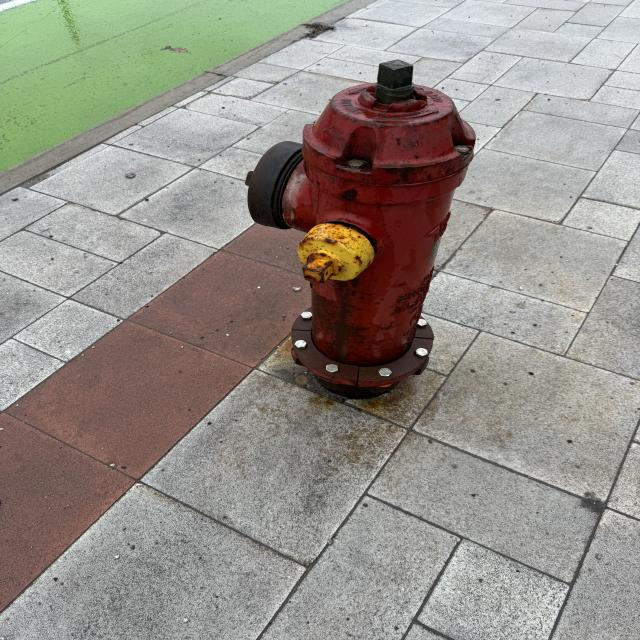Fire hydrant: (244, 60, 478, 389)
